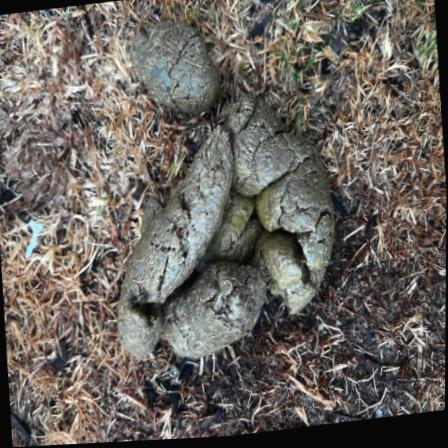dog-poop: (86, 0, 367, 413)
